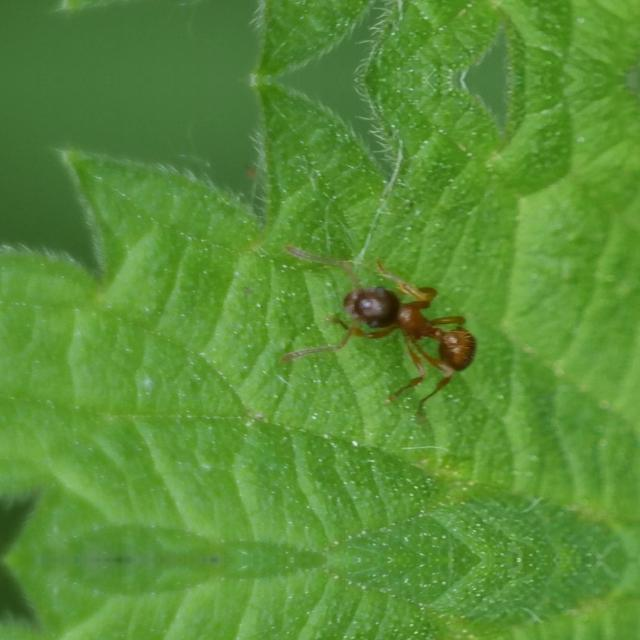Myrmica: (303, 258, 465, 376)
